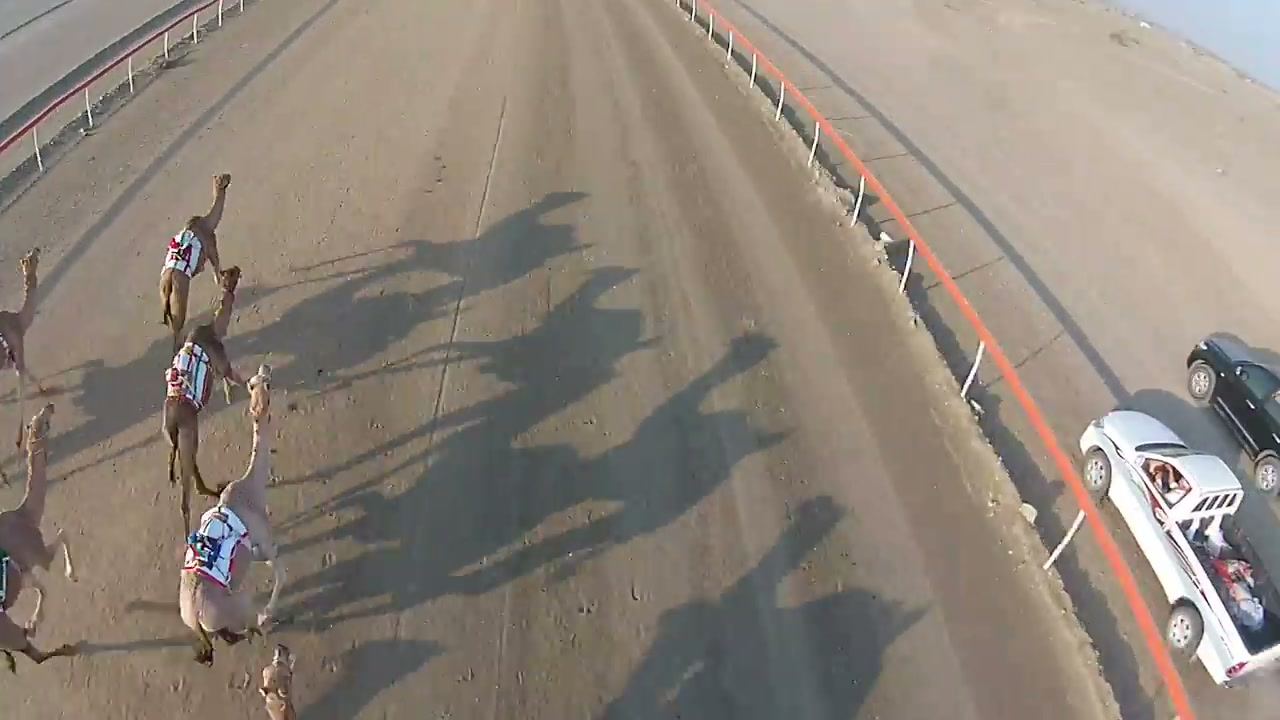animal_footprint: (520, 407, 731, 662)
